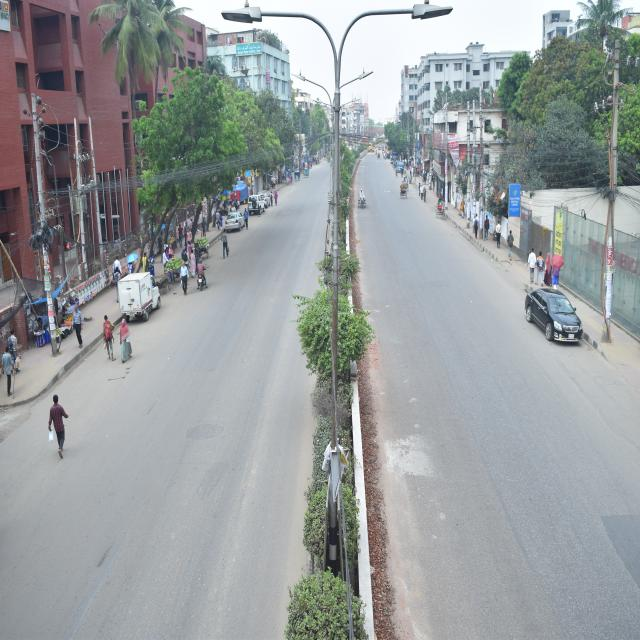car: (518, 271, 589, 388), (220, 204, 260, 250), (245, 182, 268, 230), (258, 182, 276, 214)
pickup-van: (113, 260, 169, 326)
